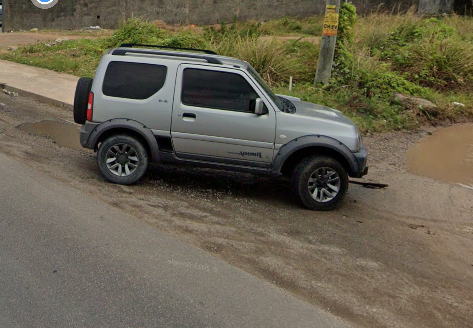car: (70, 40, 370, 213)
